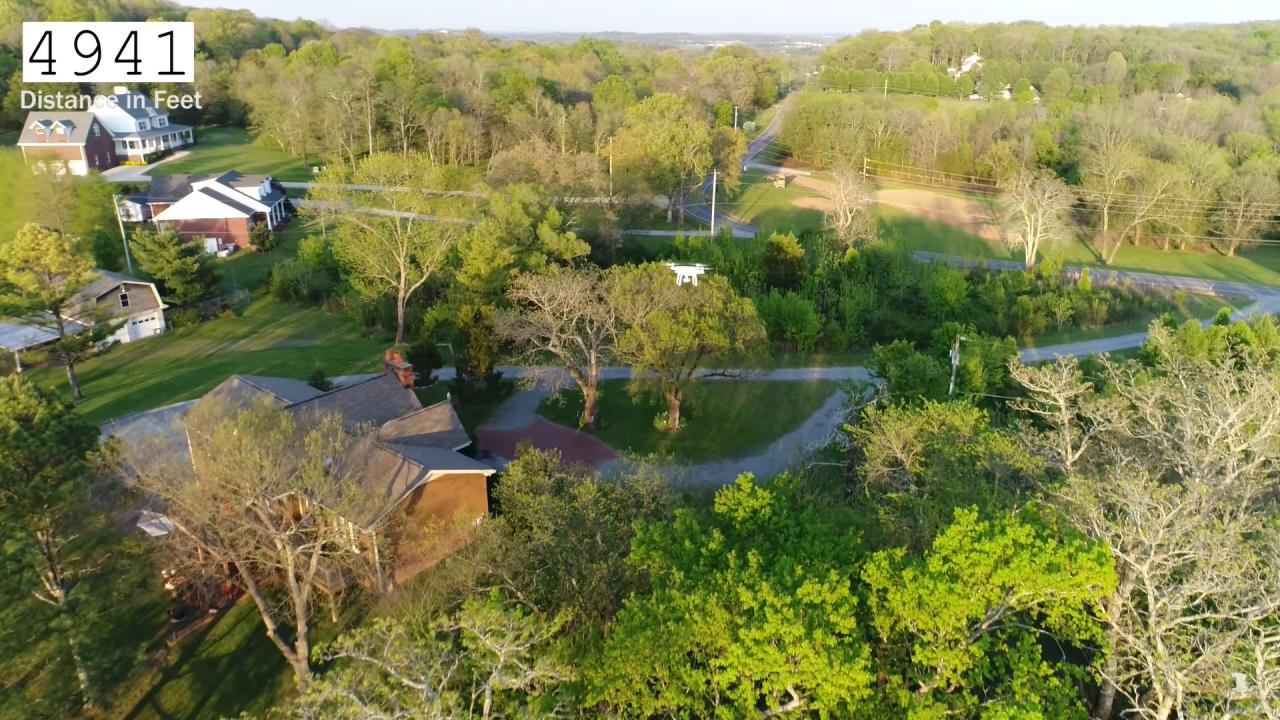Drone: (652, 254, 719, 294)
